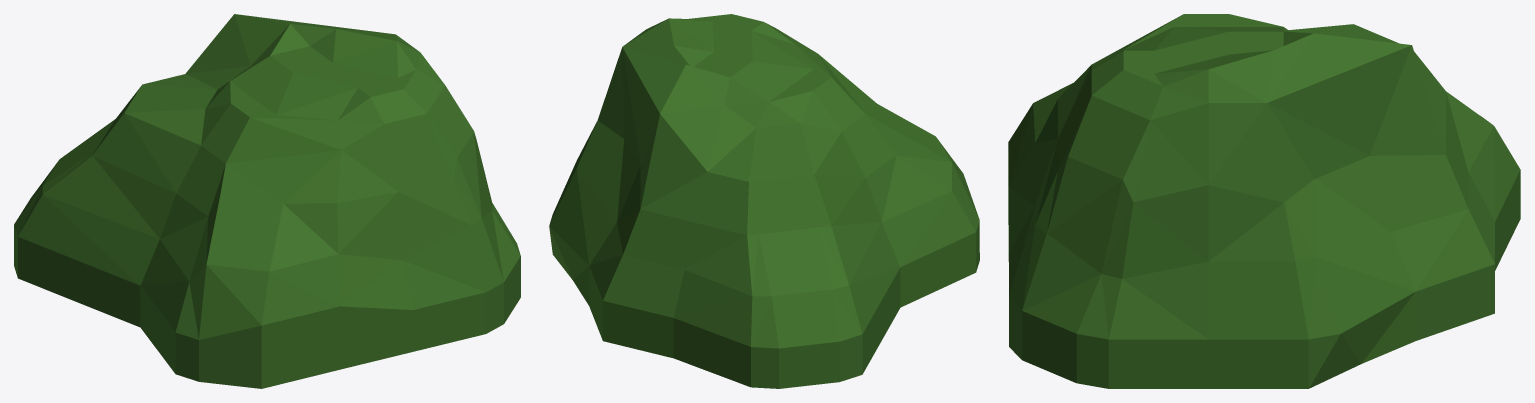
Rendered from Bush2.fbx.
3 views of the same model, side by side, from view 1: azimuth 30°, elevation 25°; view 2: azimuth 150°, elevation 25°; view 3: azimuth 270°, elevation 25° (orthographic). The views are drawn at different scales.
Visible parts, largest first — view 1: Bush2; view 2: Bush2; view 3: Bush2.
Part boxes in pixels (left/top/right/bottom): Bush2: left=14, top=14, right=520, bottom=388; Bush2: left=549, top=14, right=979, bottom=388; Bush2: left=1008, top=14, right=1520, bottom=388.
Size of the model in its own units: 821 by 496 by 838.
